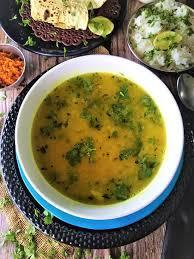varan: (38, 69, 161, 197)
